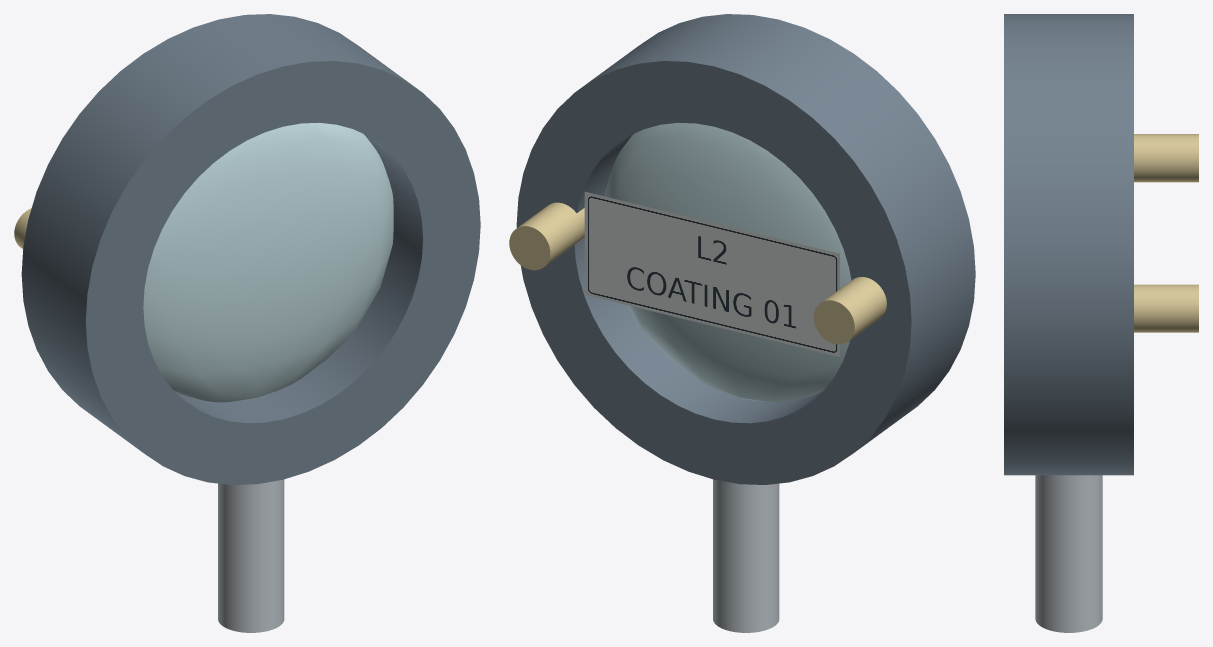
The picture shows the model from 3 angles, left to right: view 1: azimuth 30°, elevation 25°; view 2: azimuth 150°, elevation 25°; view 3: azimuth 270°, elevation 25°; orthographic projection.
Parts seen in each view (by area): view 1: L2/0000_optic_retainer, L2/0001_convex_lens, L2/0002_mounting_post; view 2: L2/0000_optic_retainer, L2/0001_convex_lens, L2/label_5, L2/0002_mounting_post, L2/0004_adjuster, L2/0003_adjuster; view 3: L2/0000_optic_retainer, L2/0002_mounting_post, L2/0003_adjuster, L2/0004_adjuster.
Part boxes in pixels (x1,y1,x2,y2): L2/0000_optic_retainer: (21,14,480,484); L2/0001_convex_lens: (143,122,393,402); L2/0002_mounting_post: (218,479,284,632); L2/0000_optic_retainer: (516,14,975,484); L2/0001_convex_lens: (604,122,851,402); L2/label_5: (584,191,839,356); L2/0002_mounting_post: (713,479,779,632); L2/0004_adjuster: (509,202,584,270); L2/0003_adjuster: (813,277,886,344); L2/0000_optic_retainer: (1004,14,1133,475); L2/0002_mounting_post: (1035,475,1102,632); L2/0003_adjuster: (1134,134,1198,182); L2/0004_adjuster: (1134,284,1198,332).
Size of the model in its own units: 0.096 by 0.1338 by 0.0405.
Materials: 5 (1 with a texture image).
